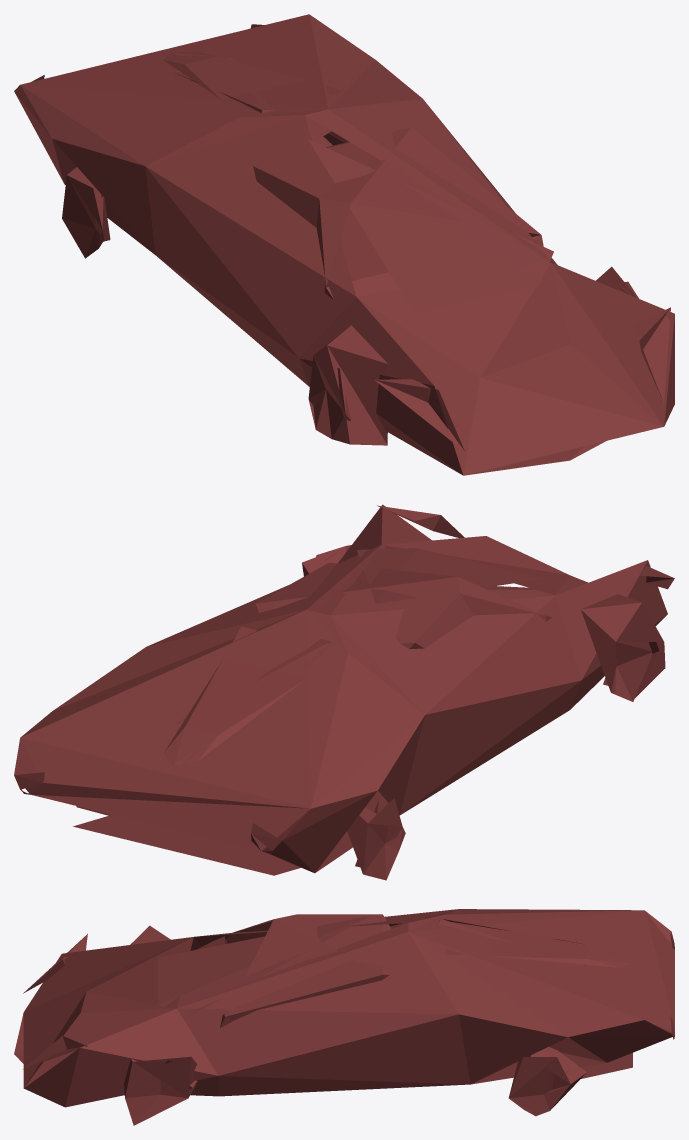
File: sports-car.lod2.glb
3 renders of one model, top to bottom at view 1: azimuth 30°, elevation 25°; view 2: azimuth 150°, elevation 25°; view 3: azimuth 270°, elevation 25°, orthographic. The views are drawn at different scales.
Visible parts, largest first — view 1: Object_2; view 2: Object_2; view 3: Object_2.
Boxes of the visible parts, bbox=[...] form: Object_2: bbox=[14, 14, 674, 475]; Object_2: bbox=[14, 504, 674, 880]; Object_2: bbox=[14, 909, 674, 1125].
Size of the model in its own units: 1.97 by 1.05 by 4.48.
